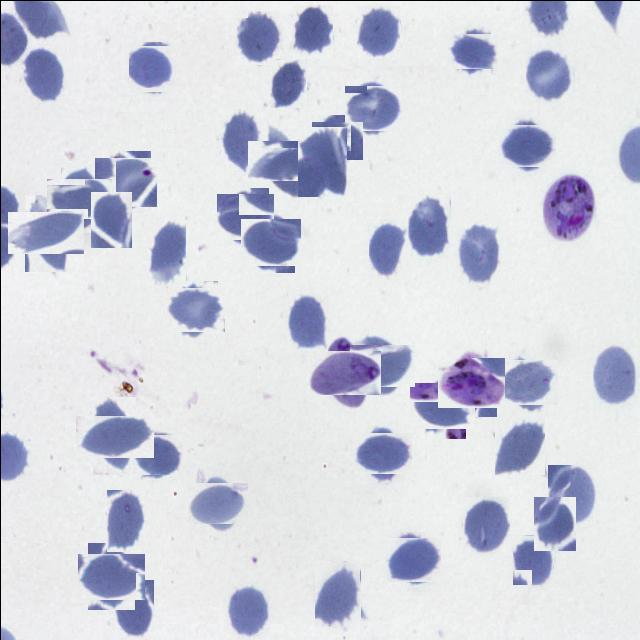red blood cell: (83, 405, 144, 466), (15, 202, 75, 262), (297, 126, 346, 196), (255, 132, 313, 189), (82, 547, 139, 604), (97, 153, 153, 209), (414, 377, 470, 433), (314, 560, 360, 626), (53, 170, 108, 225), (547, 464, 595, 526), (244, 214, 298, 268), (354, 338, 408, 392), (456, 220, 500, 286), (406, 194, 450, 260), (494, 416, 544, 474), (592, 342, 637, 406), (501, 355, 553, 408), (462, 496, 509, 554), (219, 190, 271, 242), (346, 82, 398, 134), (525, 45, 573, 101), (220, 108, 260, 173), (144, 220, 184, 285), (20, 45, 64, 103), (386, 534, 437, 584), (169, 284, 220, 334), (192, 477, 242, 528), (358, 428, 408, 478), (502, 120, 552, 170), (236, 9, 281, 64), (356, 4, 400, 58), (106, 489, 144, 551), (286, 293, 327, 350), (90, 191, 131, 247), (533, 496, 575, 550), (114, 579, 153, 637), (226, 583, 268, 636), (368, 220, 406, 278), (292, 4, 332, 58), (134, 431, 180, 477), (130, 43, 176, 89), (512, 534, 553, 584), (314, 117, 359, 162), (269, 58, 306, 108), (451, 29, 494, 72)
ring: (314, 343, 373, 401)
trophozoite: (442, 352, 501, 412), (542, 173, 594, 241)
